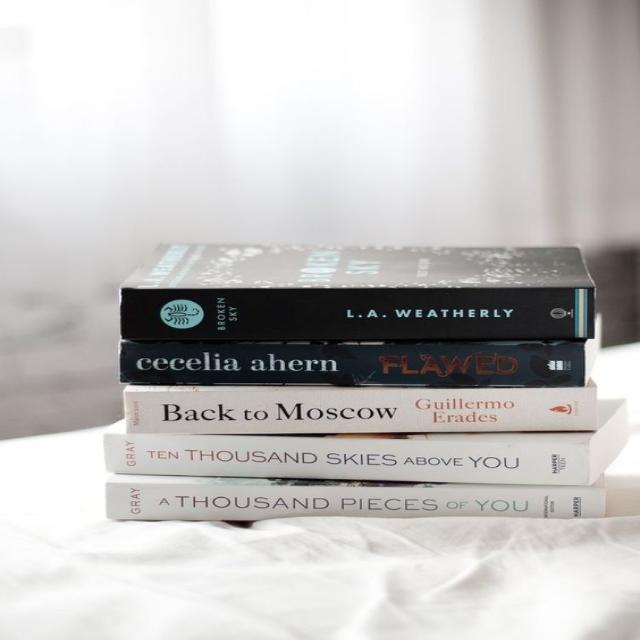book: (106, 399, 628, 485), (125, 383, 605, 434), (124, 288, 597, 338), (120, 338, 593, 387), (106, 476, 605, 520)
